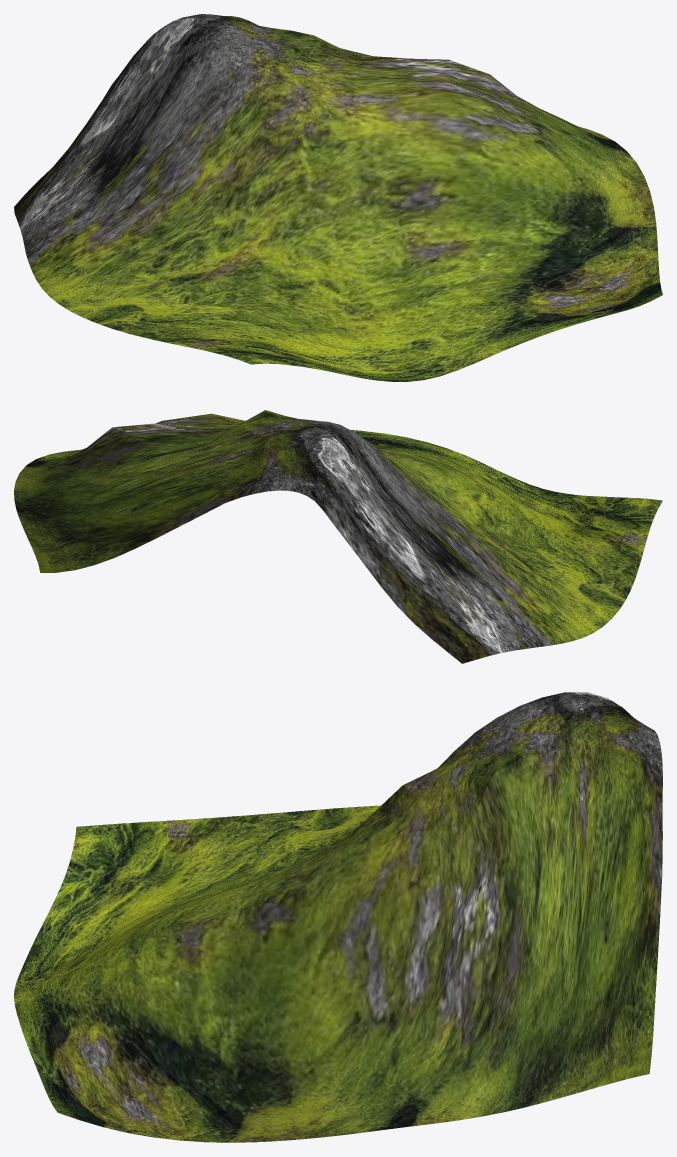
File: forest-mountains-ridge-a.glb
3 views of the same model, one above another, from view 1: azimuth 30°, elevation 25°; view 2: azimuth 150°, elevation 25°; view 3: azimuth 270°, elevation 25° (orthographic). The views are drawn at different scales.
Parts seen in each view (by area): view 1: Plane007; view 2: Plane007; view 3: Plane007.
Boxes of the visible parts, x1,y1,x2,y2 form: Plane007: [14, 14, 662, 381]; Plane007: [14, 410, 662, 663]; Plane007: [14, 692, 662, 1142].
Bounding box in the file's own units: 101 × 36 × 78.26.
Materials: 1 (1 with a texture image).
